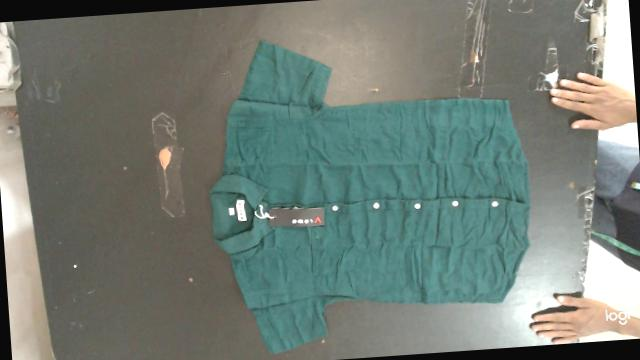new-garment: (210, 41, 529, 352)
